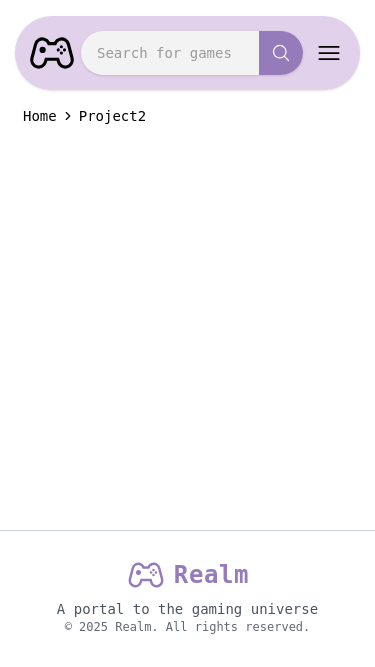
Test: Navbar: check interaction and responsiveness for mobile and desktop › Mobile resolution › Navigates to Favorites page when menu item clicked
This screenshot has width=375, height=667.
What coordinates should you click on to do the following:
click the button named "Open mobile menu"
I would click on:
 (332, 53)
Its box is [315,33,348,73].
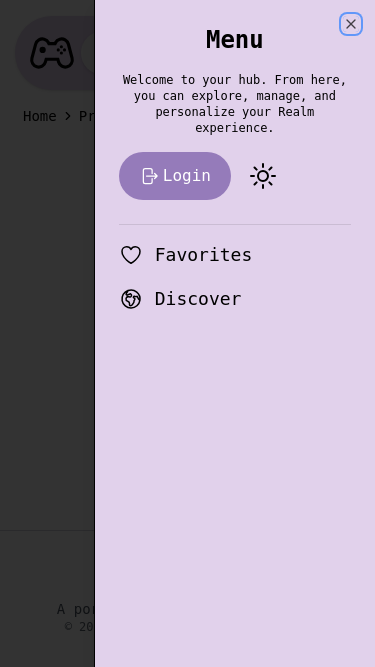
What coordinates should you click on to do the following:
click the link "Favorites"
I would click on:
 (186, 255)
Its box is [119,243,253,267].
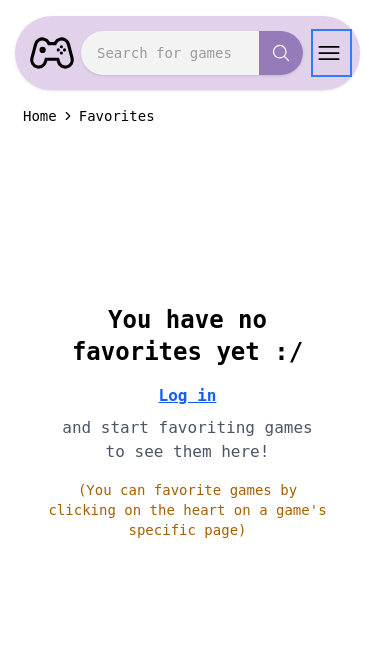
Expected: the dialog is gone
